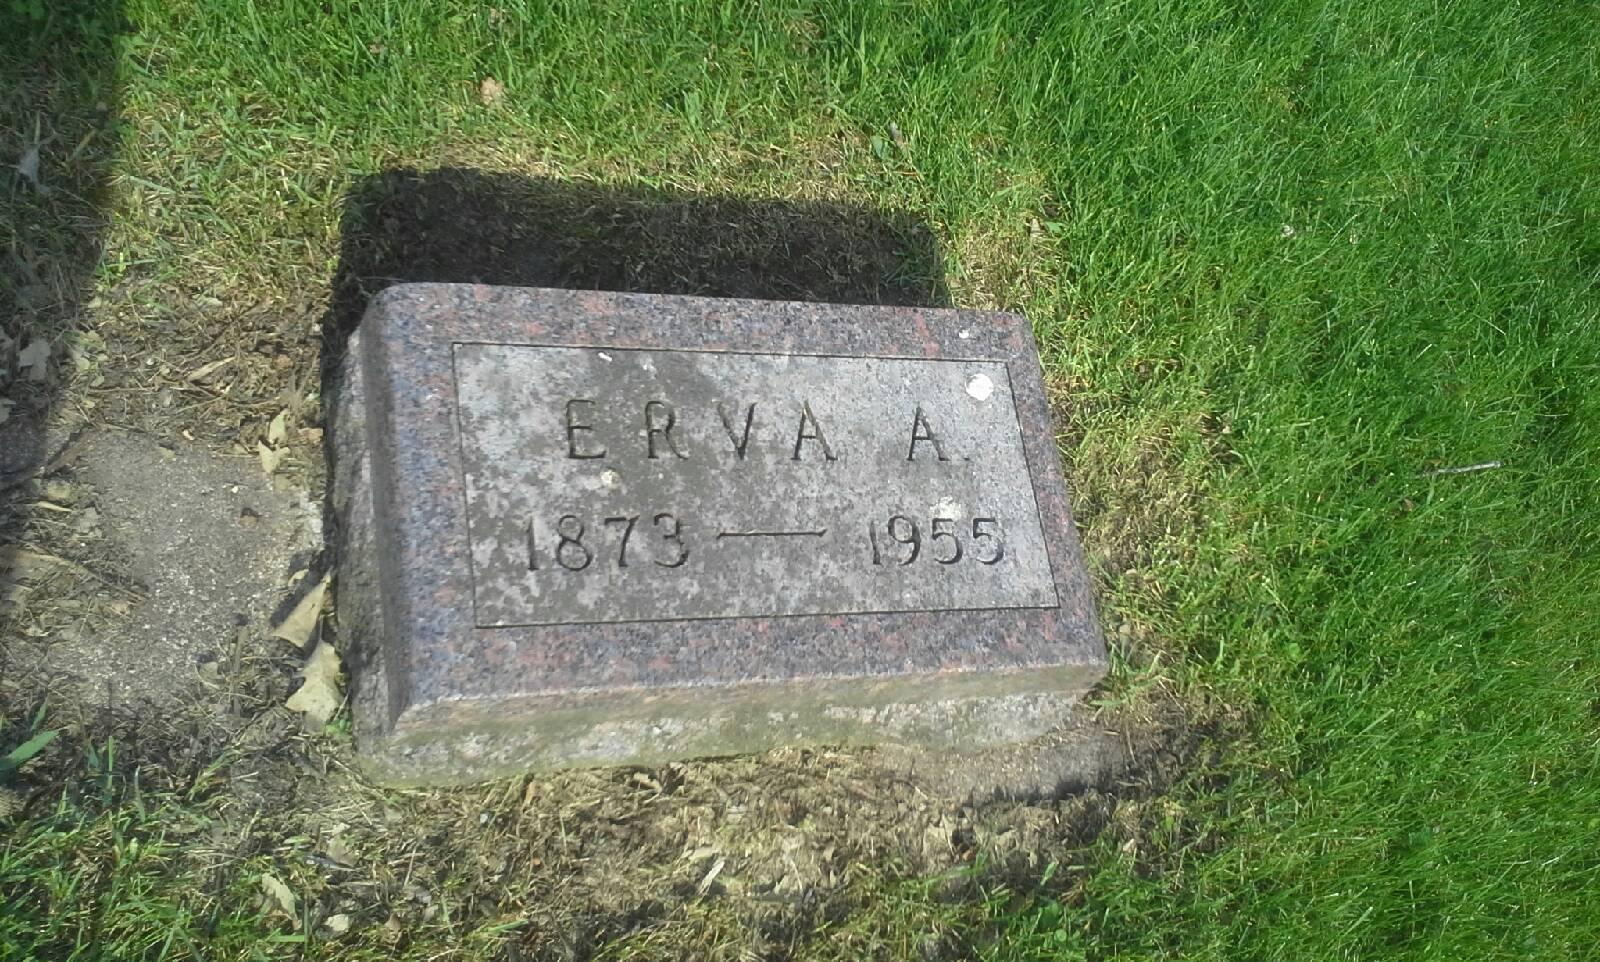flat: (286, 237, 1117, 767)
